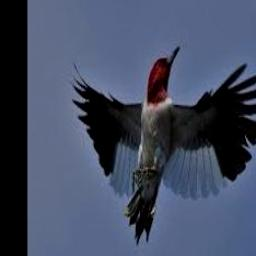Woodpecker: (71, 46, 256, 244)
